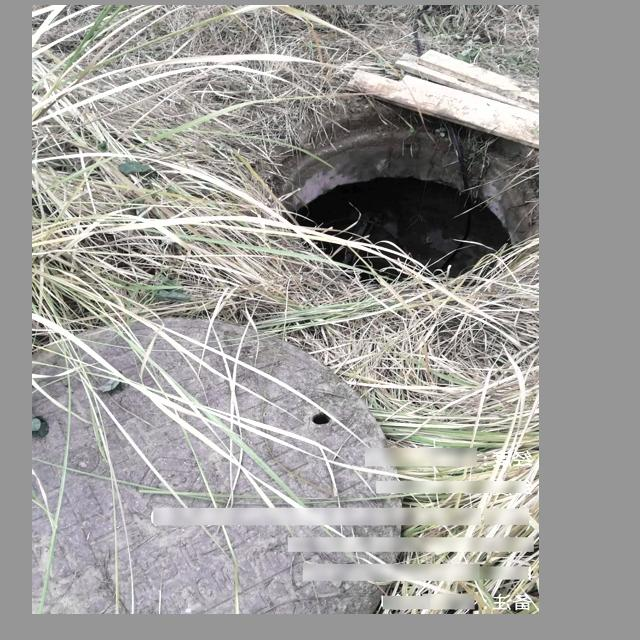uncovered: (240, 34, 536, 320)
